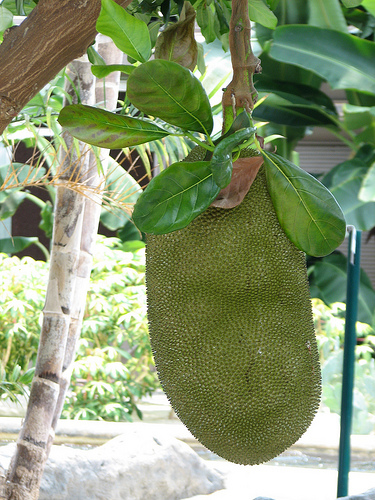jackfruit: (143, 140, 323, 466)
